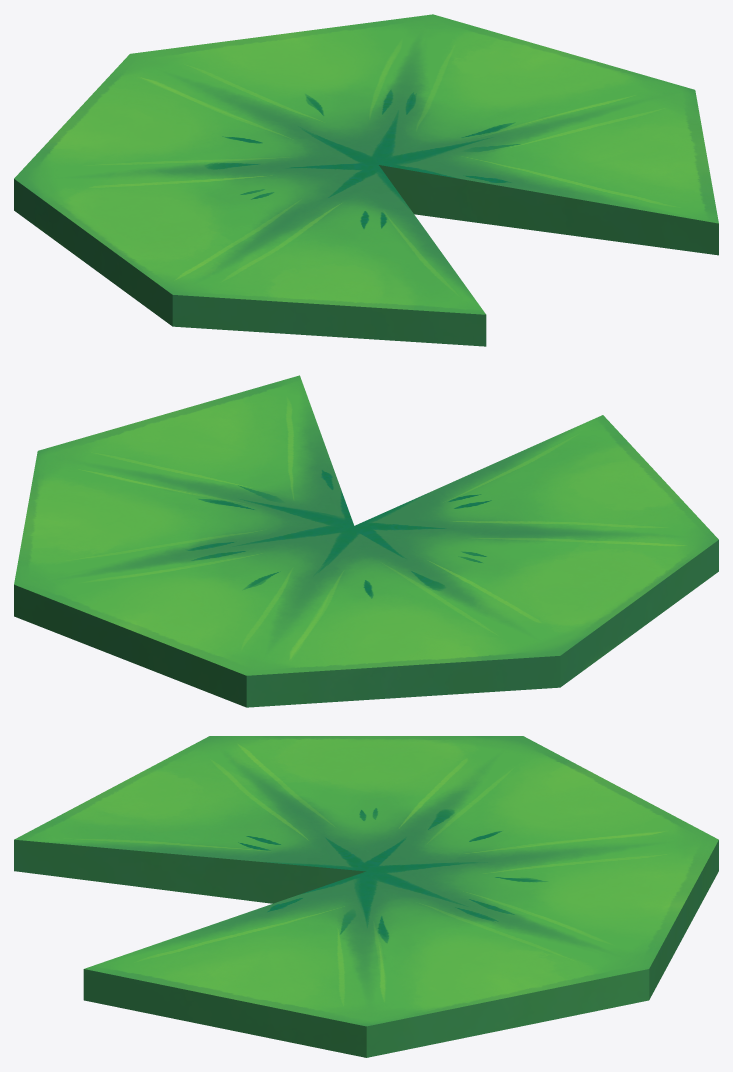
File: lilypad.fbx
3 views of the same model, one above another, from view 1: azimuth 30°, elevation 25°; view 2: azimuth 150°, elevation 25°; view 3: azimuth 270°, elevation 25° (orthographic).
Parts seen in each view (by area): view 1: lily_pad; view 2: lily_pad; view 3: lily_pad.
Boxes of the visible parts, box(x1,y1,x2,y2) form: lily_pad: box(14, 14, 718, 346); lily_pad: box(14, 375, 718, 707); lily_pad: box(14, 736, 718, 1057).
Bounding box in the file's own units: 4.34 × 0.3079 × 4.45.
Materials: 1 (1 with a texture image).
